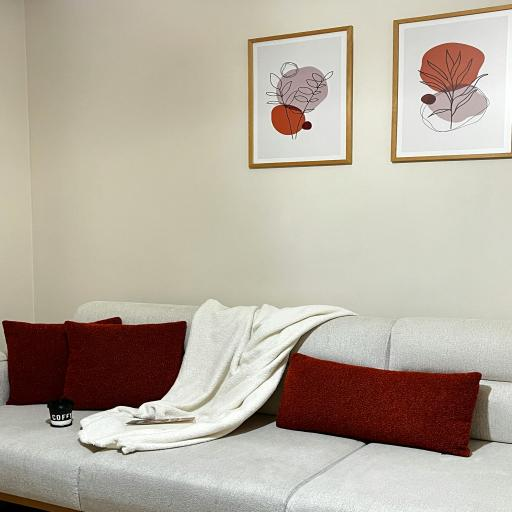nofire: (0, 0, 508, 512)
